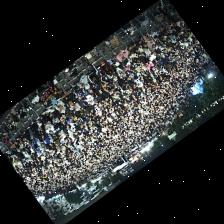person: (61, 89, 80, 109), (86, 59, 99, 83), (41, 115, 53, 135), (51, 118, 63, 135), (99, 60, 112, 75), (72, 112, 84, 128), (58, 114, 70, 128), (115, 48, 127, 62), (76, 74, 88, 88), (52, 100, 65, 112), (44, 106, 57, 118), (127, 42, 139, 54), (20, 129, 31, 142), (99, 71, 109, 85), (71, 84, 83, 95), (135, 36, 146, 48), (79, 106, 89, 119), (83, 91, 93, 104), (61, 104, 71, 117), (40, 132, 48, 148), (29, 130, 36, 148), (29, 123, 38, 137), (92, 82, 103, 93), (73, 91, 85, 101), (69, 97, 78, 110), (149, 30, 160, 40), (84, 82, 94, 93), (115, 66, 125, 76), (132, 56, 143, 65), (156, 27, 168, 35), (35, 119, 43, 131), (52, 137, 60, 149), (141, 48, 151, 57), (144, 61, 154, 70), (135, 47, 145, 56), (118, 61, 128, 70), (84, 103, 94, 112), (107, 57, 118, 65), (11, 140, 19, 151), (146, 40, 157, 48), (127, 52, 136, 61), (100, 83, 110, 91), (164, 22, 171, 33), (34, 138, 41, 149), (141, 32, 150, 40), (77, 100, 83, 112), (45, 78, 53, 86), (107, 74, 116, 81), (135, 65, 144, 72), (161, 36, 171, 42), (94, 105, 100, 115), (149, 55, 157, 62), (7, 145, 14, 153), (125, 61, 132, 69), (147, 47, 155, 54), (111, 65, 116, 75)
